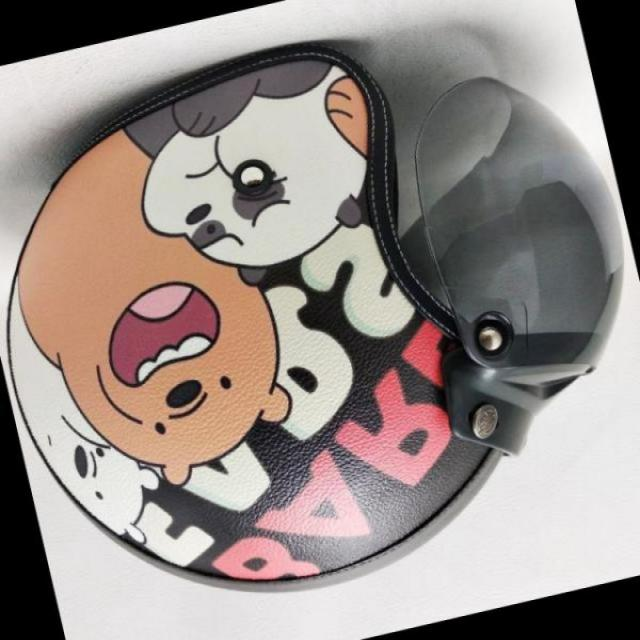Helmet: (0, 32, 614, 599)
